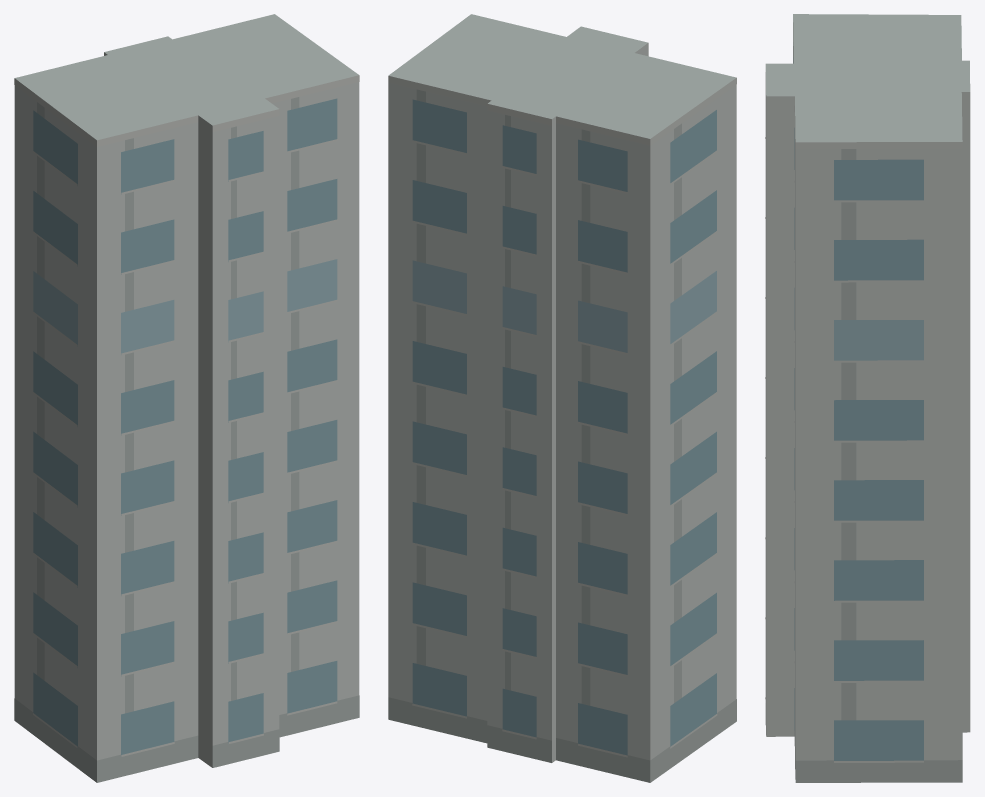
File: survey-upis-32995423.glb
3 renders of one model, left to right at view 1: azimuth 30°, elevation 25°; view 2: azimuth 150°, elevation 25°; view 3: azimuth 270°, elevation 25°, orthographic.
Parts seen in each view (by area): view 1: survey-upis-32995423.tmp; view 2: survey-upis-32995423.tmp; view 3: survey-upis-32995423.tmp.
Part boxes in pixels (x1,y1,x2,y2): survey-upis-32995423.tmp: (14,14,359,782); survey-upis-32995423.tmp: (388,14,736,782); survey-upis-32995423.tmp: (765,14,970,782).
Bounding box in the file's own units: 9.89 × 23 × 6.68.
